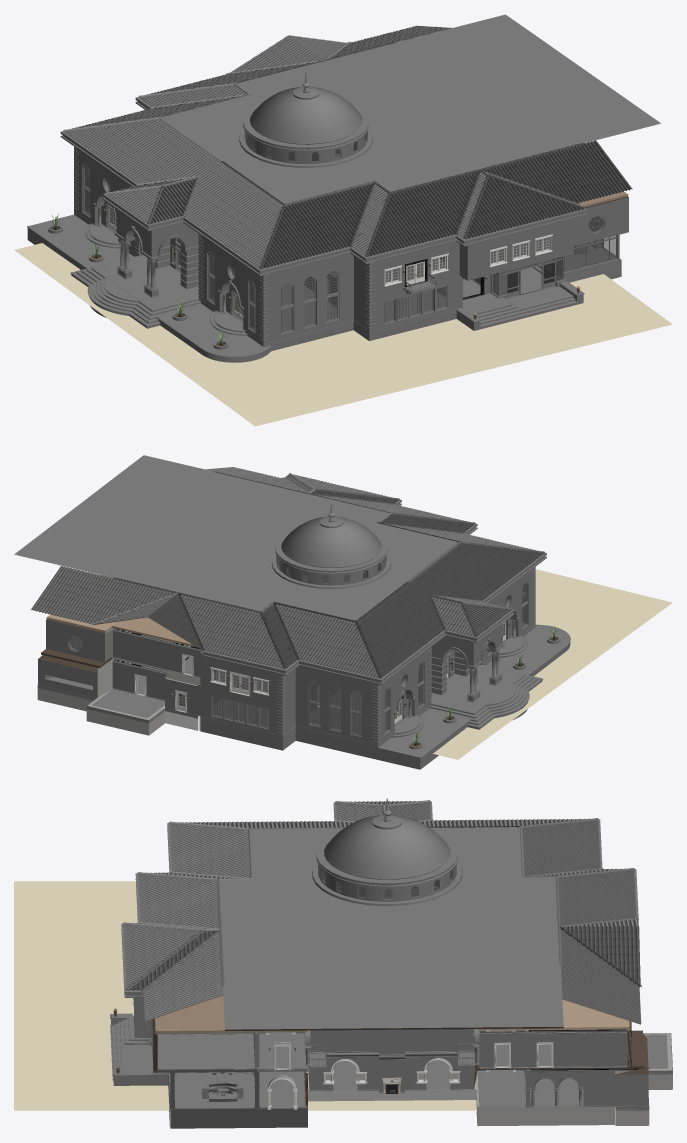
The picture shows the model from 3 angles, top to bottom: view 1: azimuth 30°, elevation 25°; view 2: azimuth 150°, elevation 25°; view 3: azimuth 270°, elevation 25°; orthographic projection. The views are drawn at different scales.
Visible parts, largest first — view 1: Roma Center roof, Roma Front (×18), Terrain 2,0, Roma Front roof (×19), roma Right (×9), Roma Right front roof (×10), roma Left wing2 (×2), Roma Left front roof; view 2: Roma Center roof, Roma Front (×17), Roma Left (×14), Roma Front roof (×18), Terrain 2,0, Roma Left front roof (×7), roma Left wing2 (×3), Roma Right front roof; view 3: Roma Center roof, Terrain 2,0, Roma Left (×8), roma Right (×8), Roma Right front roof (×9), Roma Center (×3), Roma Front, Roma Front roof (×8), Roma Left front roof (×6), roma Left wing2.
Part boxes in pixels (x1=…): Roma Center roof: x1=161, y1=14, x2=660, y2=203; Roma Front (×18): x1=27, y1=87, x2=373, y2=362; Terrain 2,0: x1=14, y1=243, x2=672, y2=426; Roma Front roof (×19): x1=60, y1=119, x2=456, y2=276; roma Right (×9): x1=327, y1=196, x2=628, y2=340; Roma Right front roof (×10): x1=352, y1=140, x2=632, y2=256; roma Left wing2 (×2): x1=230, y1=35, x2=346, y2=72; Roma Left front roof: x1=140, y1=85, x2=246, y2=106; Roma Center roof: x1=14, y1=455, x2=458, y2=620; Roma Front (×17): x1=271, y1=516, x2=570, y2=769; Roma Left (×14): x1=37, y1=617, x2=319, y2=750; Roma Front roof (×18): x1=200, y1=543, x2=543, y2=684; Terrain 2,0: x1=433, y1=569, x2=672, y2=759; Roma Left front roof (×7): x1=31, y1=566, x2=297, y2=668; roma Left wing2 (×3): x1=94, y1=593, x2=201, y2=678; Roma Right front roof: x1=380, y1=514, x2=474, y2=532; Roma Center roof: x1=219, y1=827, x2=563, y2=1030; Terrain 2,0: x1=14, y1=881, x2=476, y2=1110; Roma Left (×8): x1=474, y1=992, x2=672, y2=1126; roma Right (×8): x1=110, y1=995, x2=309, y2=1128; Roma Right front roof (×9): x1=123, y1=874, x2=223, y2=1021; Roma Center (×3): x1=306, y1=1029, x2=476, y2=1101; Roma Front: x1=312, y1=815, x2=462, y2=906; Roma Front roof (×8): x1=169, y1=801, x2=600, y2=877; Roma Left front roof (×6): x1=558, y1=869, x2=641, y2=1024; roma Left wing2: x1=561, y1=926, x2=640, y2=984.
Size of the model in its own units: 76.61 by 27.43 by 77.8.
505 materials, 490 textured.
